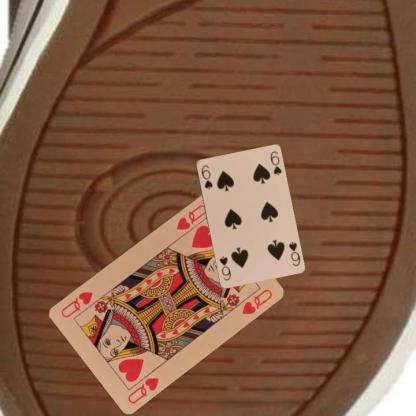6s: (199, 162, 214, 190), (286, 239, 301, 267)
Qh: (124, 373, 160, 405), (173, 201, 208, 231)
